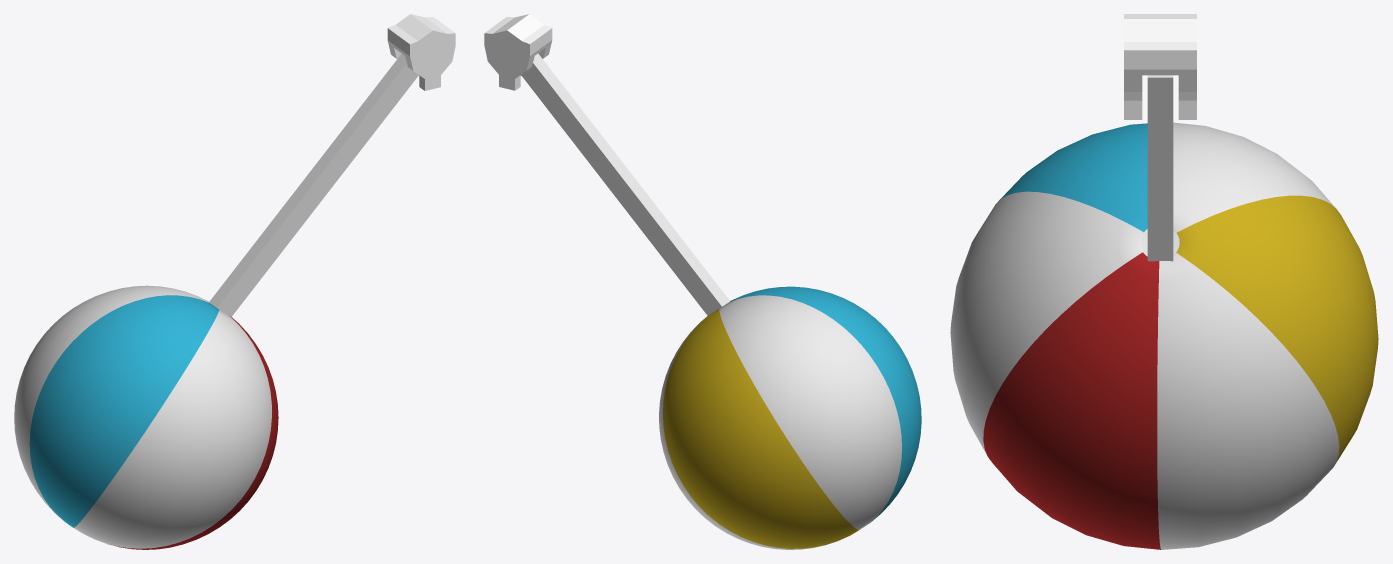
Rendered from SwingingBall.fbx.
3 views of the same model, side by side, from view 1: azimuth 30°, elevation 25°; view 2: azimuth 150°, elevation 25°; view 3: azimuth 270°, elevation 25° (orthographic). The views are drawn at different scales.
Parts seen in each view (by area): view 1: PendulumBlade, PendulumHolder; view 2: PendulumBlade, PendulumHolder; view 3: PendulumBlade, PendulumHolder.
Boxes of the visible parts, box(x1,y1,x2,y2) form: PendulumBlade: box(14, 53, 418, 549); PendulumHolder: box(387, 14, 455, 90); PendulumBlade: box(521, 53, 921, 549); PendulumHolder: box(484, 14, 552, 90); PendulumBlade: box(950, 75, 1378, 549); PendulumHolder: box(1124, 14, 1196, 119).
Bounding box in the file's own units: 359 × 375 × 200.
